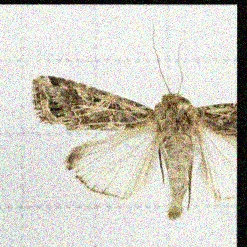Spodoptera litura: (31, 21, 237, 220)
